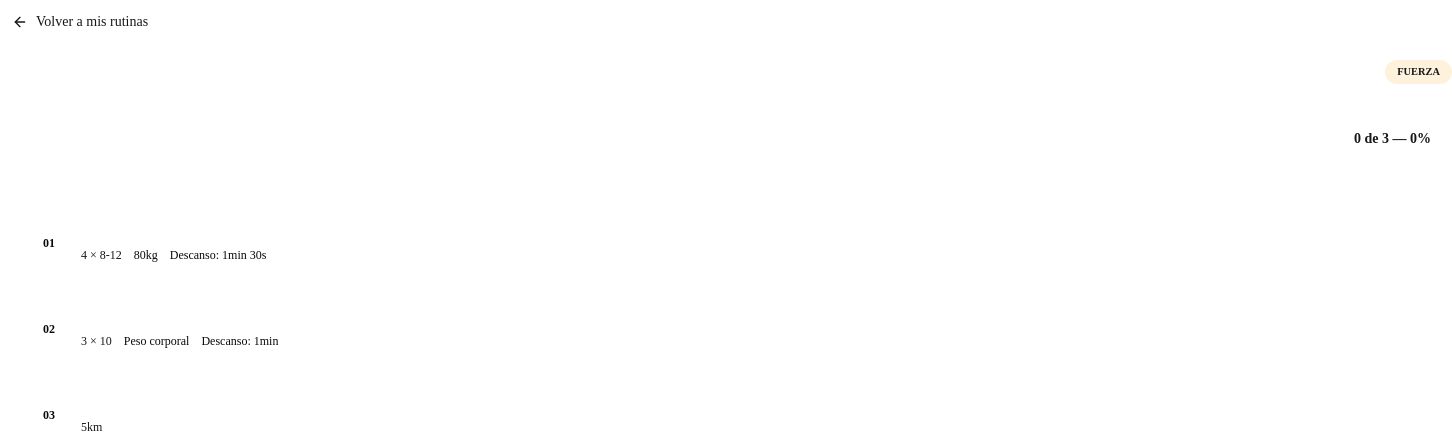
Scenario: RutinaDiaClient › marks an exercise as complete when clicked (optimistic update)
The width and height of the screenshot is (1452, 448).
Click the text "Sentadilla" at (732, 243), box [12, 206, 1451, 280]
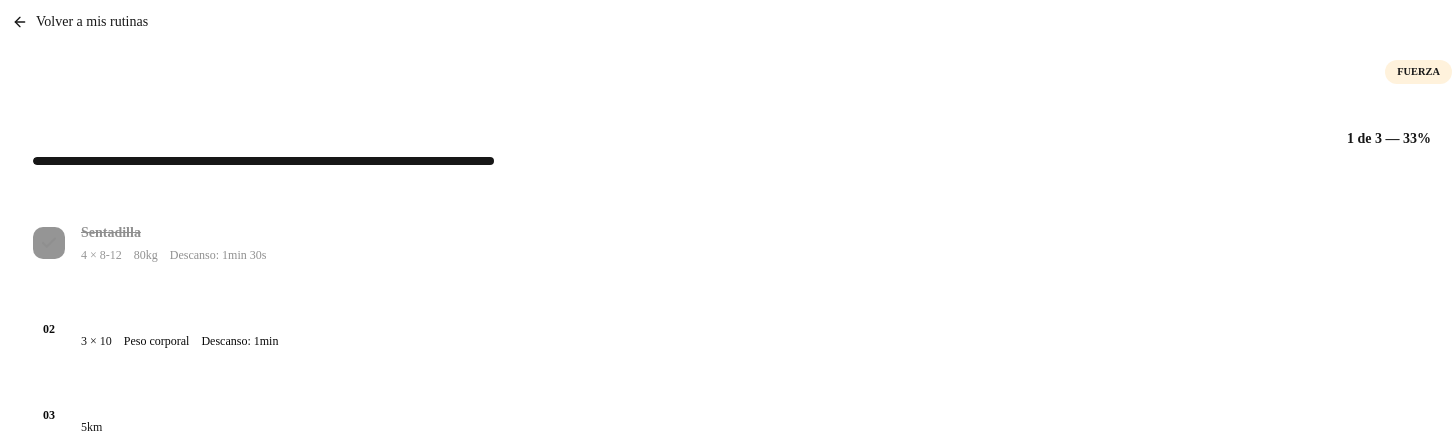
Now the text "1 de 3 — 33%" is shown, box [1347, 129, 1431, 149]
